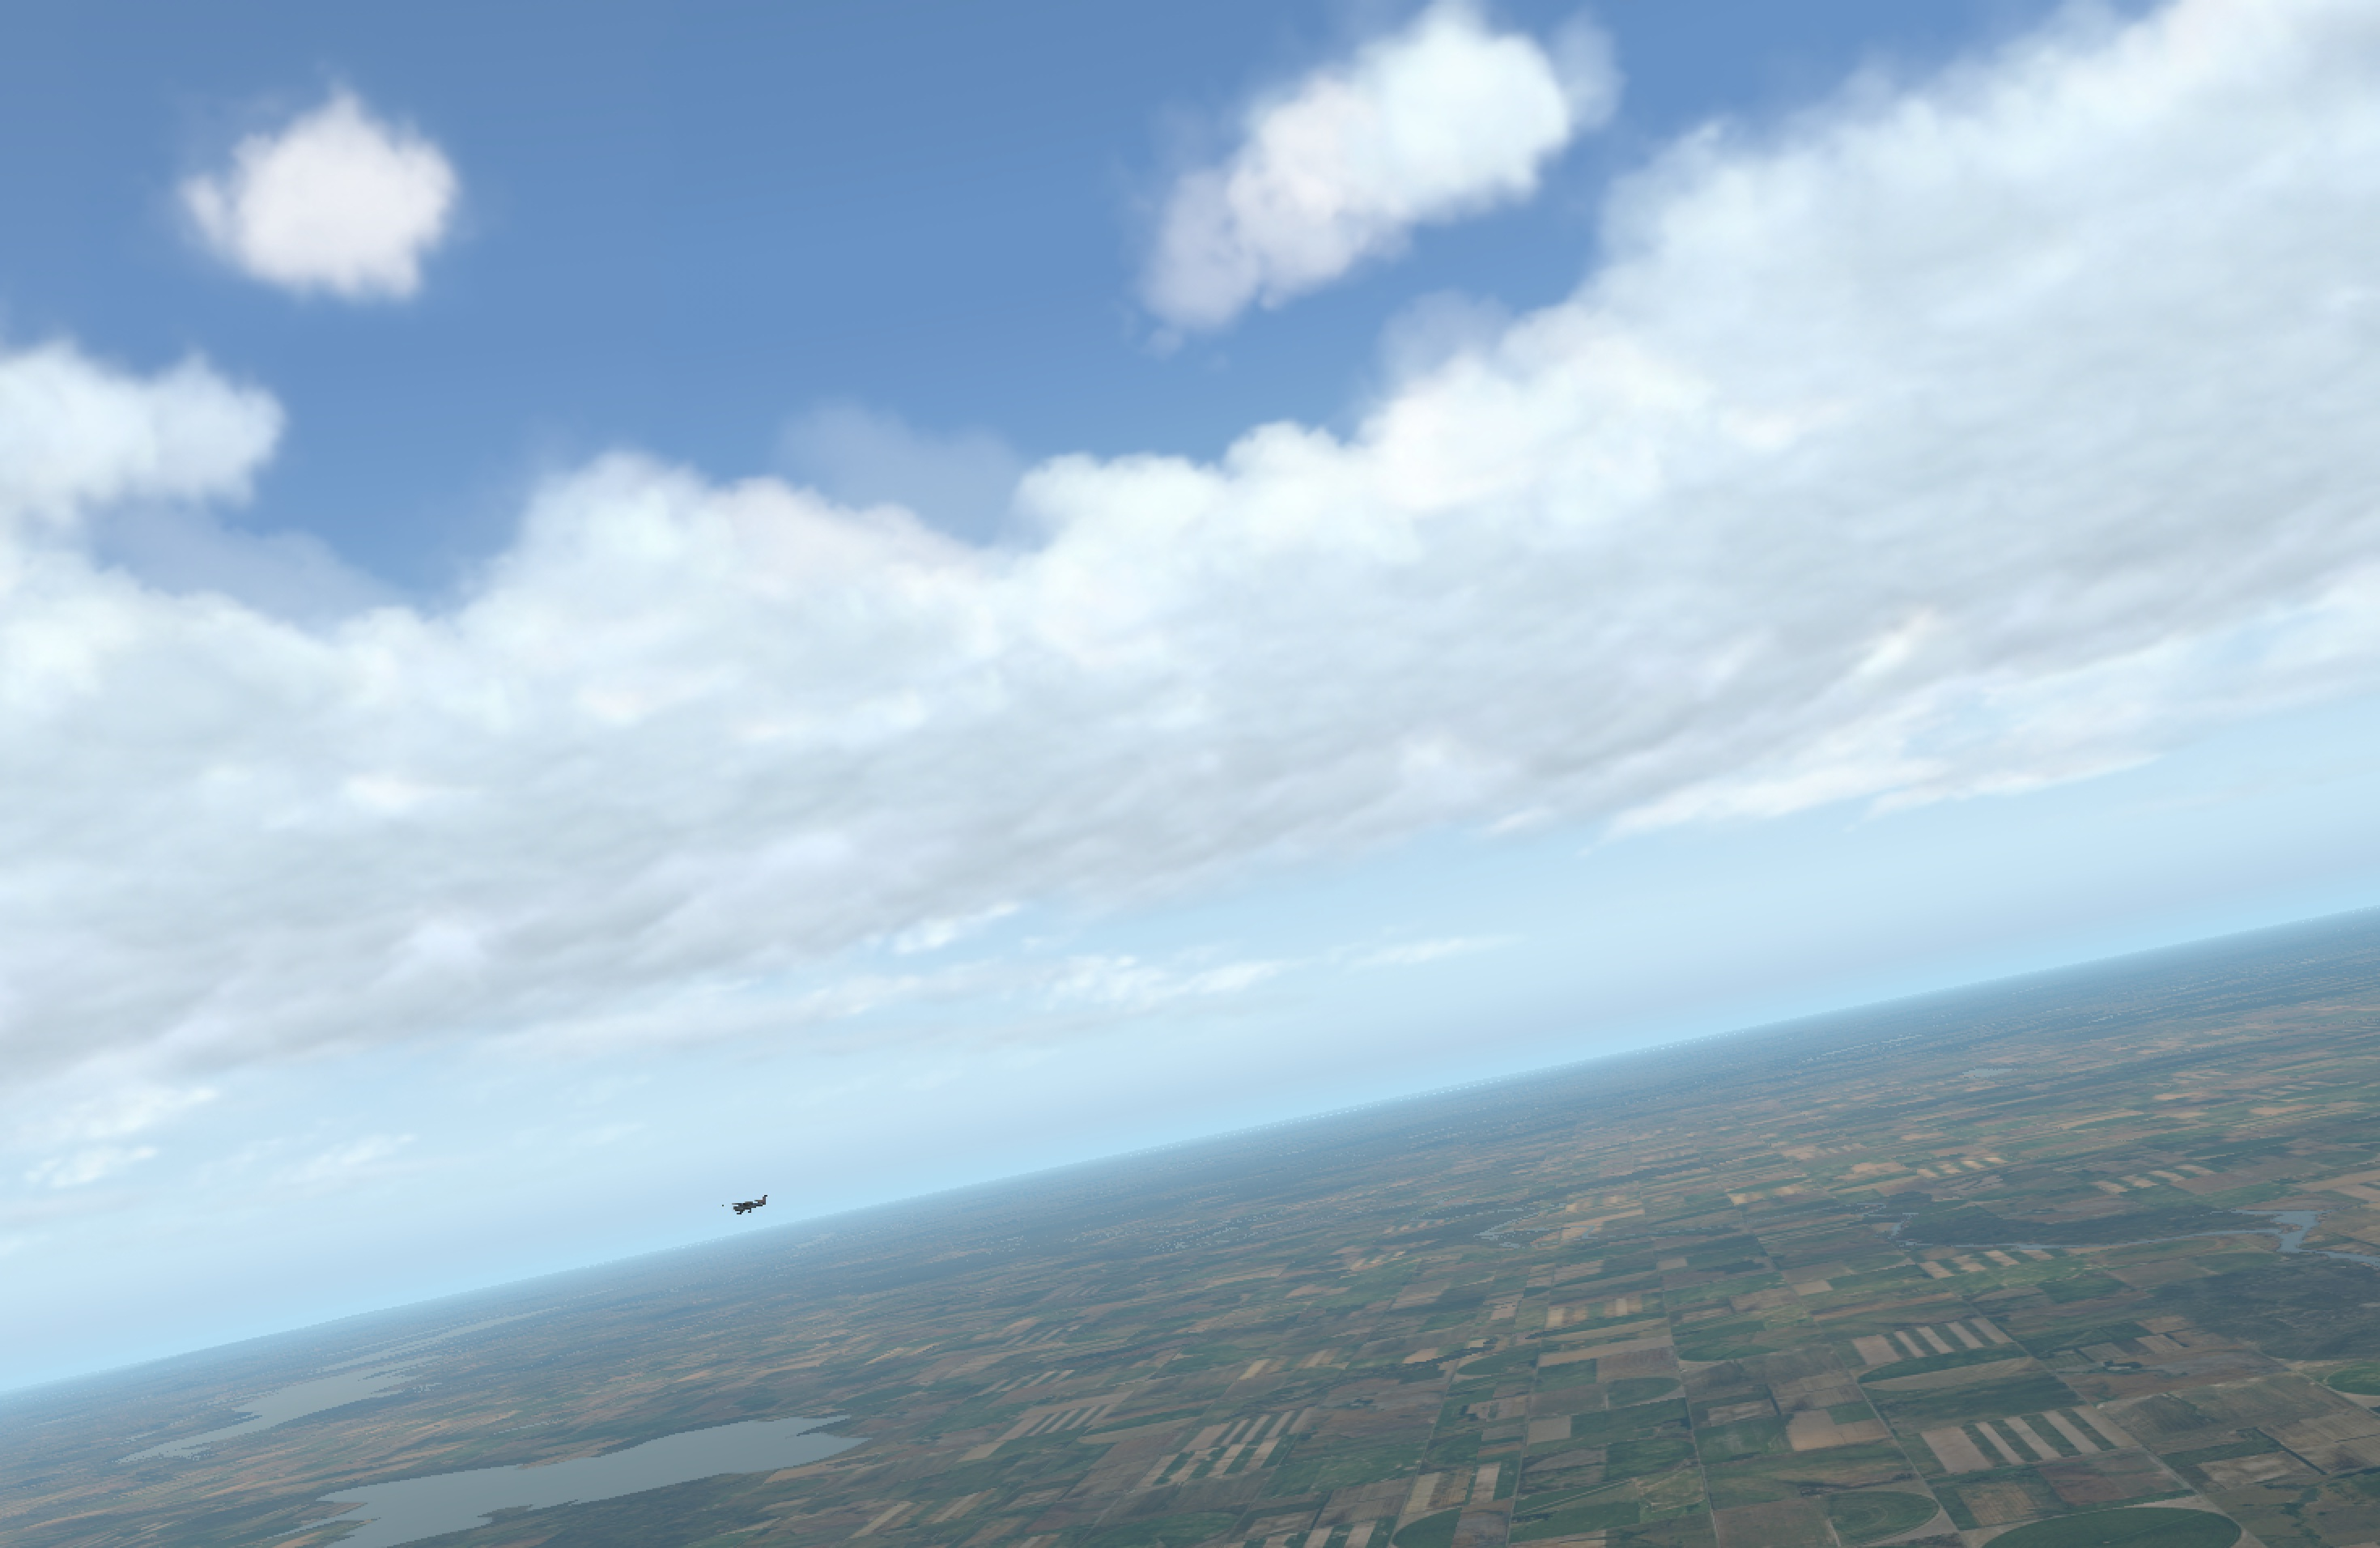aircraft: (722, 1199, 763, 1215)
